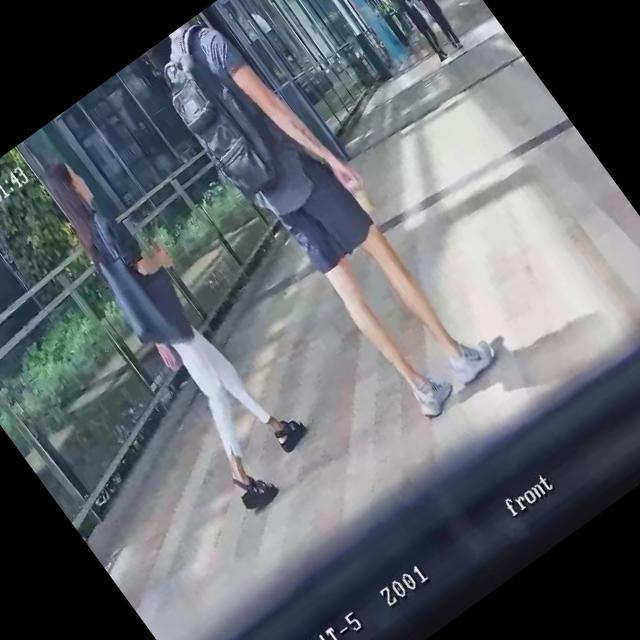person: (145, 0, 507, 431), (19, 134, 328, 511), (392, 0, 452, 61), (400, 0, 467, 52)
